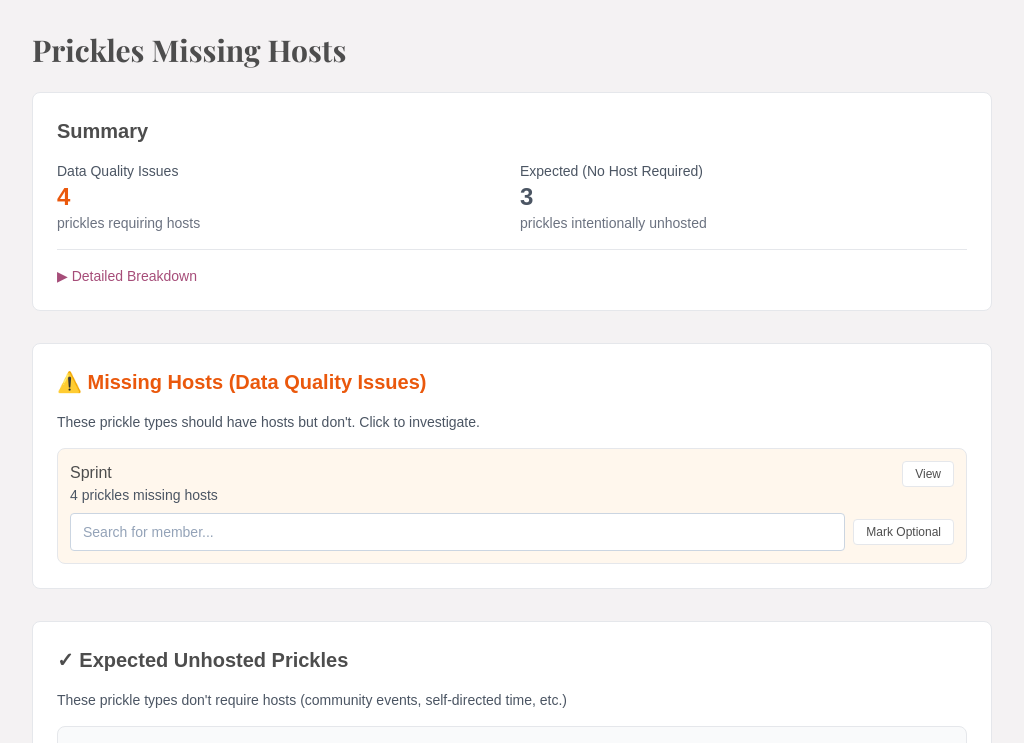
Test case: MissingHostsClient › lists a type's unhosted prickles when you view it
The width and height of the screenshot is (1024, 743).
Click the button "View".
click(928, 474)  # box [902,461,954,487]
(page scrolled)
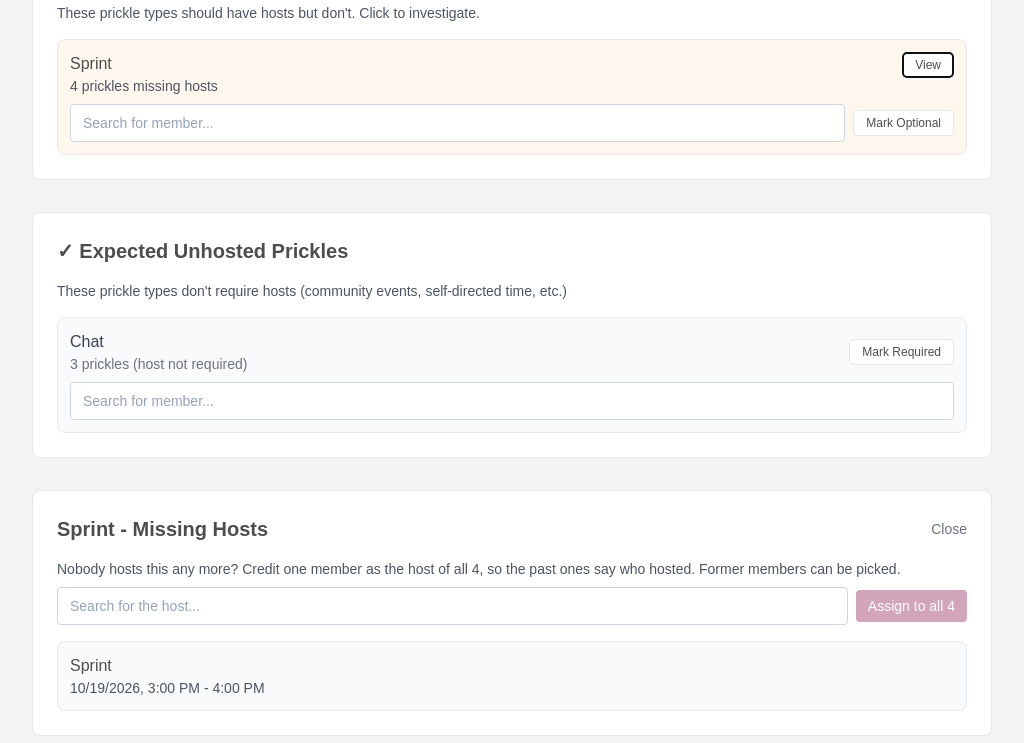
Check: the heading "Sprint - Missing Hosts" is shown, box [57,515,268,543]
